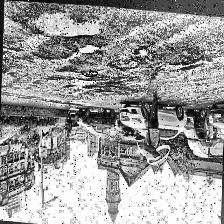pothole: (32, 7, 102, 40), (110, 55, 138, 71), (78, 41, 98, 55)
